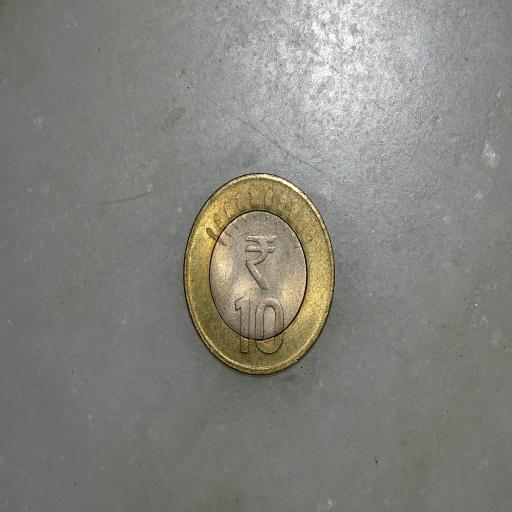rupee10: (183, 172, 338, 376)
